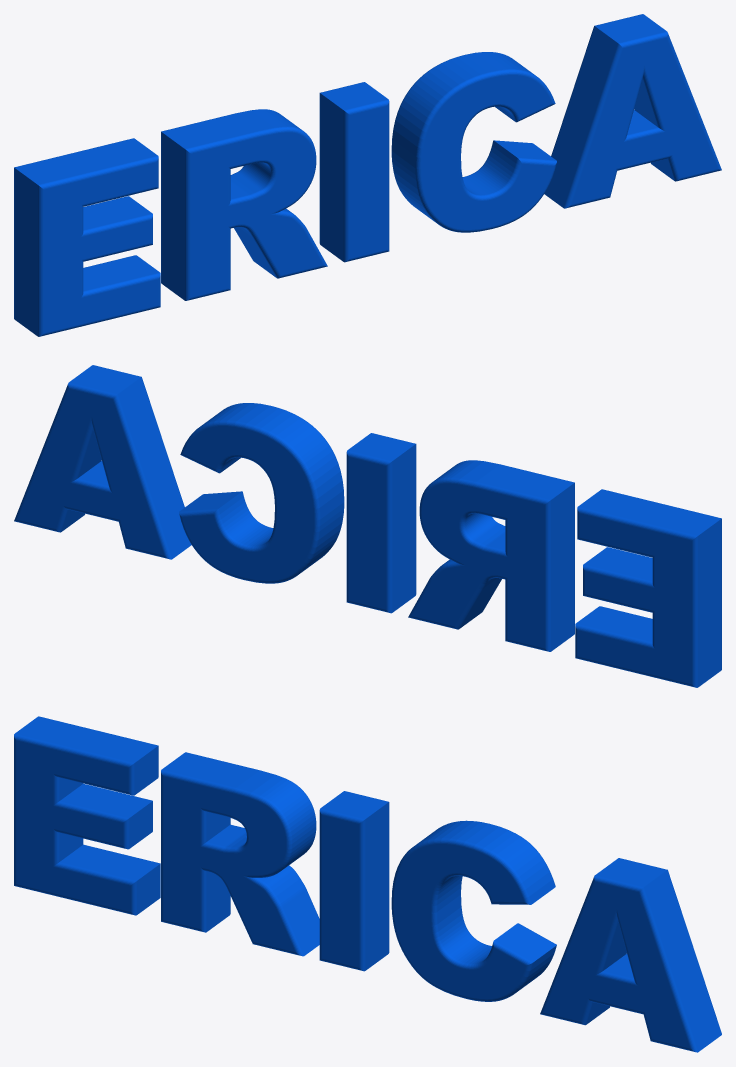
File: ERICA.fbx
3 renders of one model, top to bottom at view 1: azimuth 30°, elevation 25°; view 2: azimuth 150°, elevation 25°; view 3: azimuth 330°, elevation 25°, orthographic.
Parts seen in each view (by area): view 1: Extrude; view 2: Extrude; view 3: Extrude.
Boxes of the visible parts, bbox=[...] form: Extrude: bbox=[14, 14, 721, 336]; Extrude: bbox=[14, 365, 721, 687]; Extrude: bbox=[14, 716, 721, 1052].
Size of the model in its own units: 79.37 by 17.42 by 5.57.
